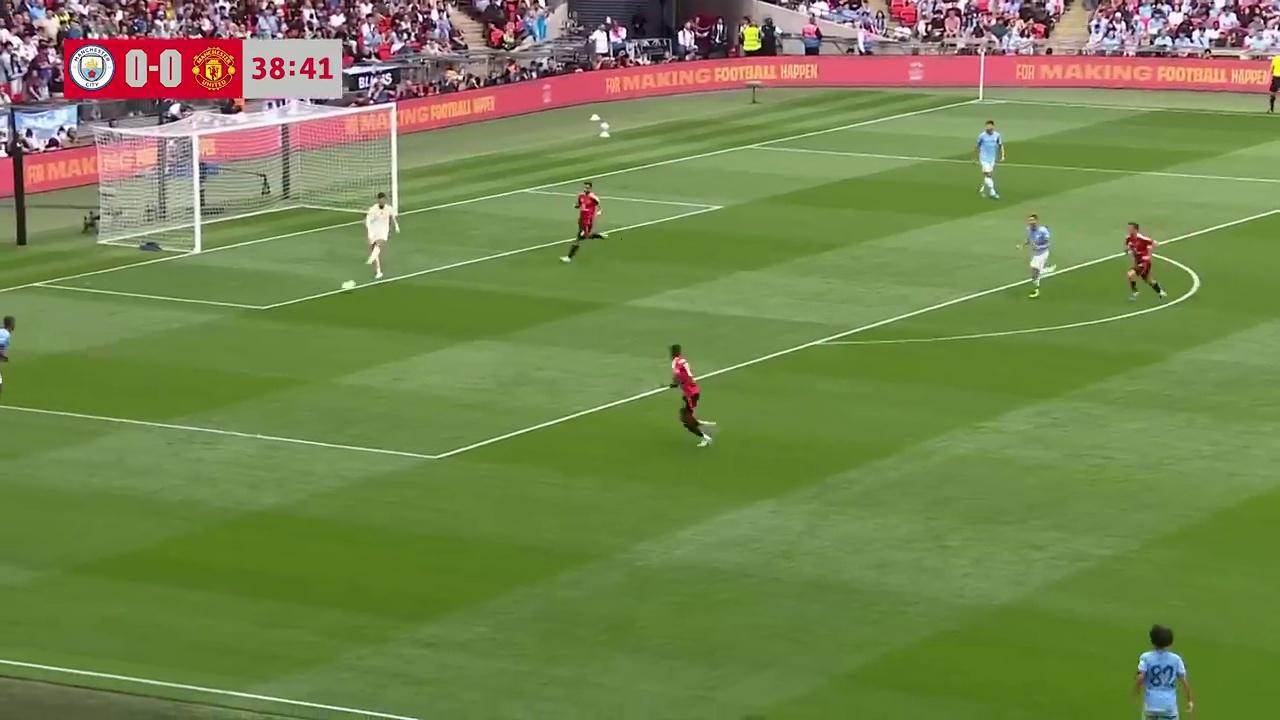ball: (339, 277, 357, 293)
player: (1133, 623, 1195, 720), (669, 345, 715, 446), (560, 183, 601, 262), (1124, 223, 1164, 300), (1017, 212, 1051, 298), (364, 192, 395, 278), (976, 113, 1003, 200), (0, 316, 15, 401)
referee: (1265, 53, 1279, 115)
